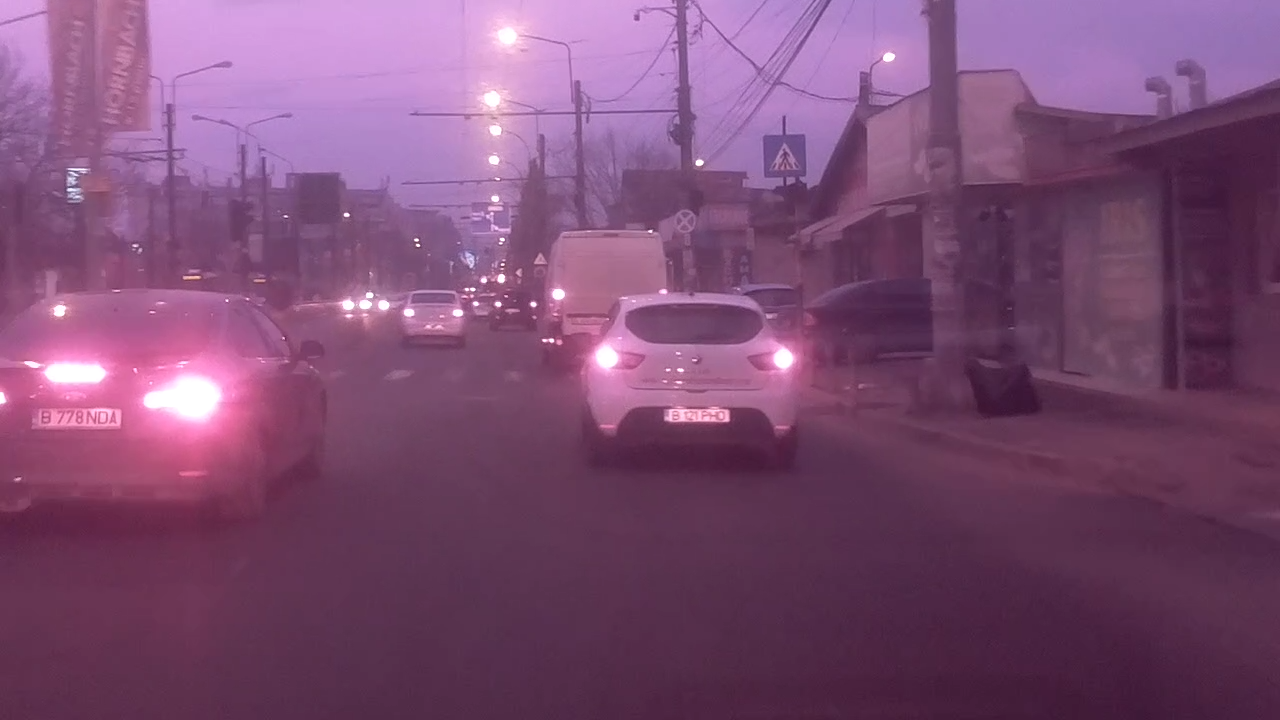license-plate: (30, 404, 125, 430), (660, 405, 732, 424)
